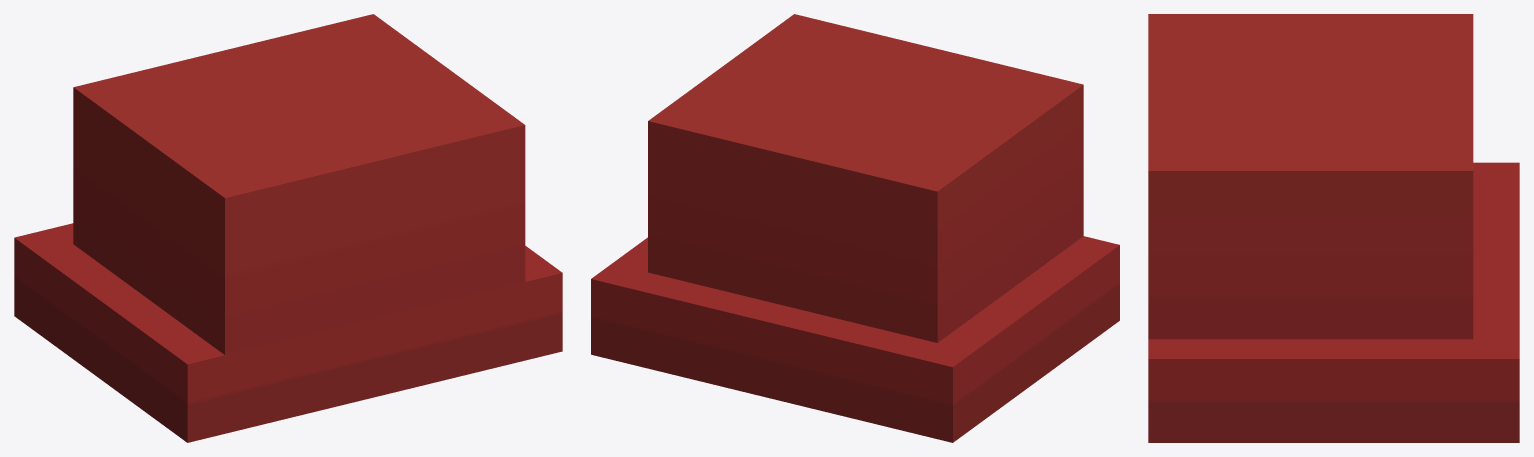
Rendered from Spine065.fbx.
3 renders of one model, left to right at view 1: azimuth 30°, elevation 25°; view 2: azimuth 150°, elevation 25°; view 3: azimuth 270°, elevation 25°, orthographic. The views are drawn at different scales.
Visible parts, largest first — view 1: Spine065; view 2: Spine065; view 3: Spine065.
Boxes of the visible parts, x1=… form: Spine065: x1=14, y1=14, x2=562, y2=442; Spine065: x1=591, y1=14, x2=1119, y2=442; Spine065: x1=1148, y1=14, x2=1519, y2=442.
Bounding box in the file's own units: 10 × 6 × 8.
